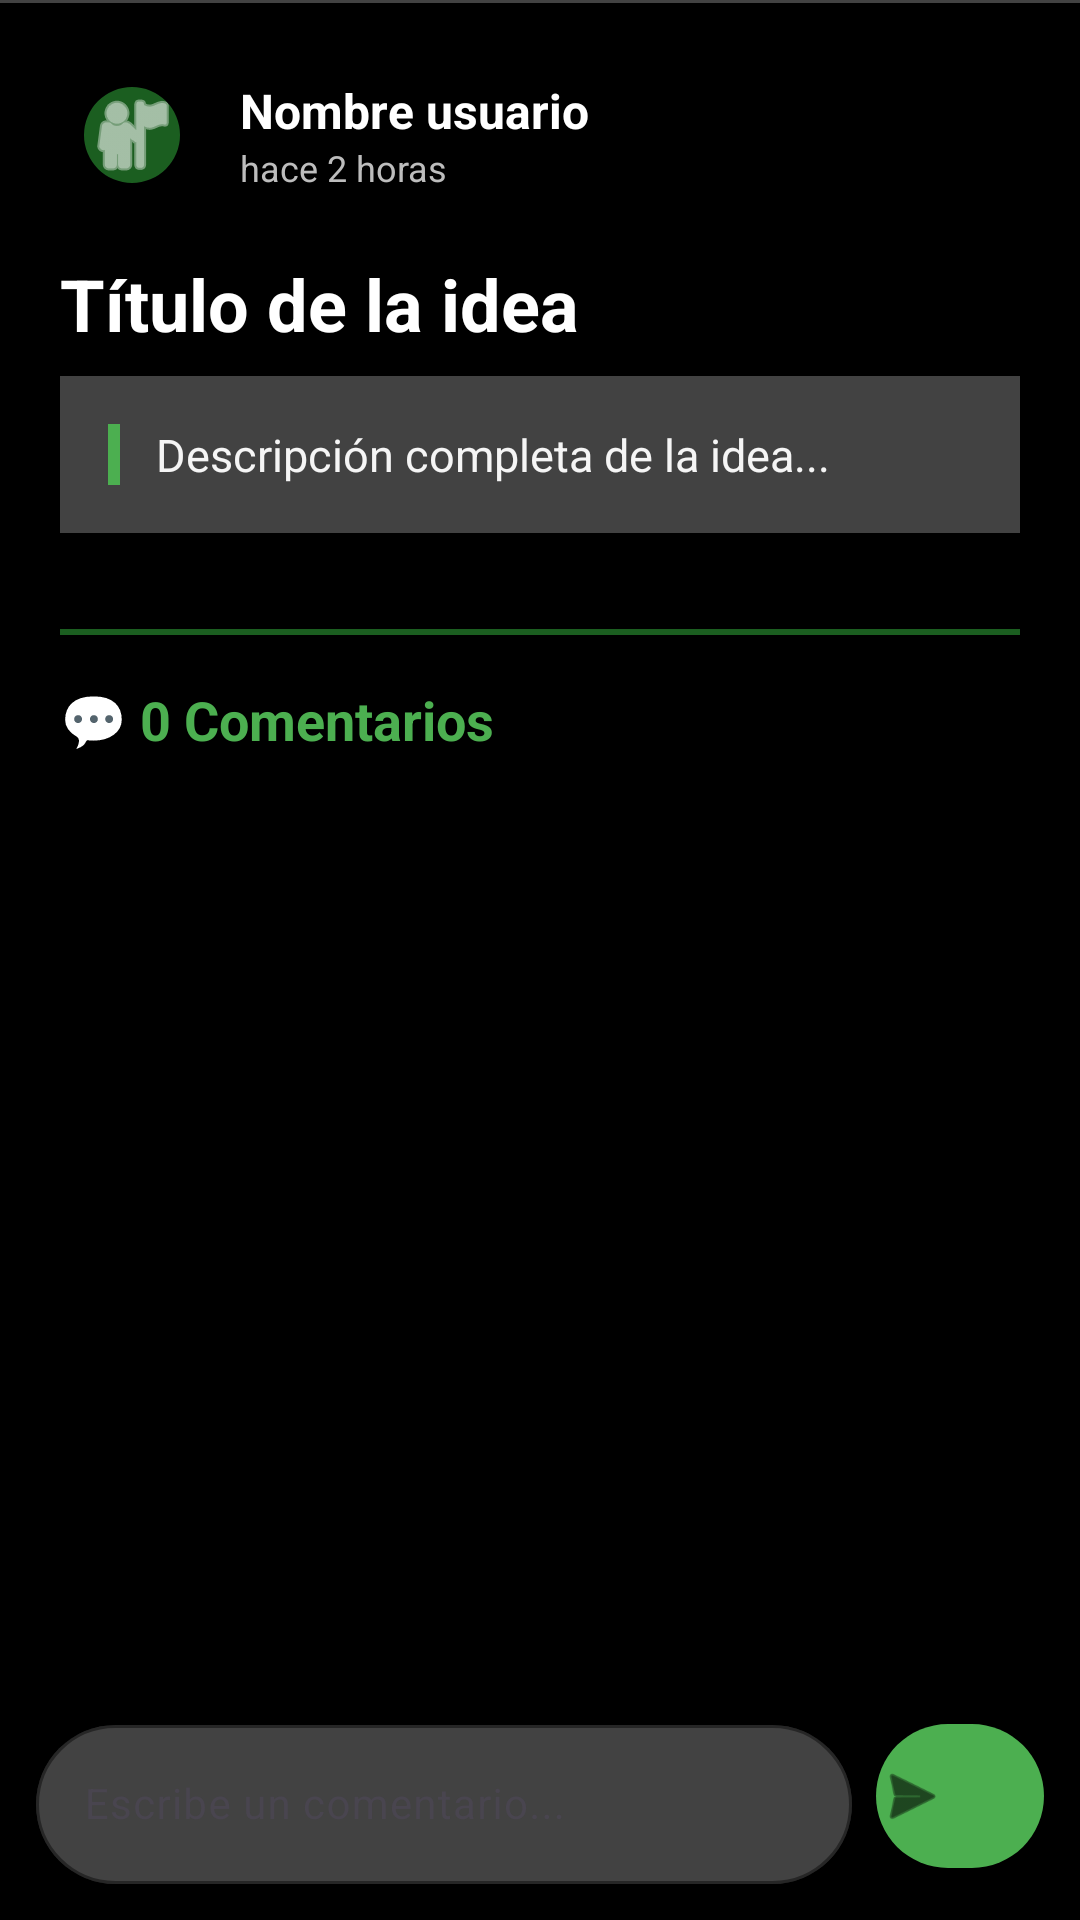

Point at icon controls on the screen. Image size 1080w x 1920h, points as (x=x, y=y).
send: (x=960, y=1796)
